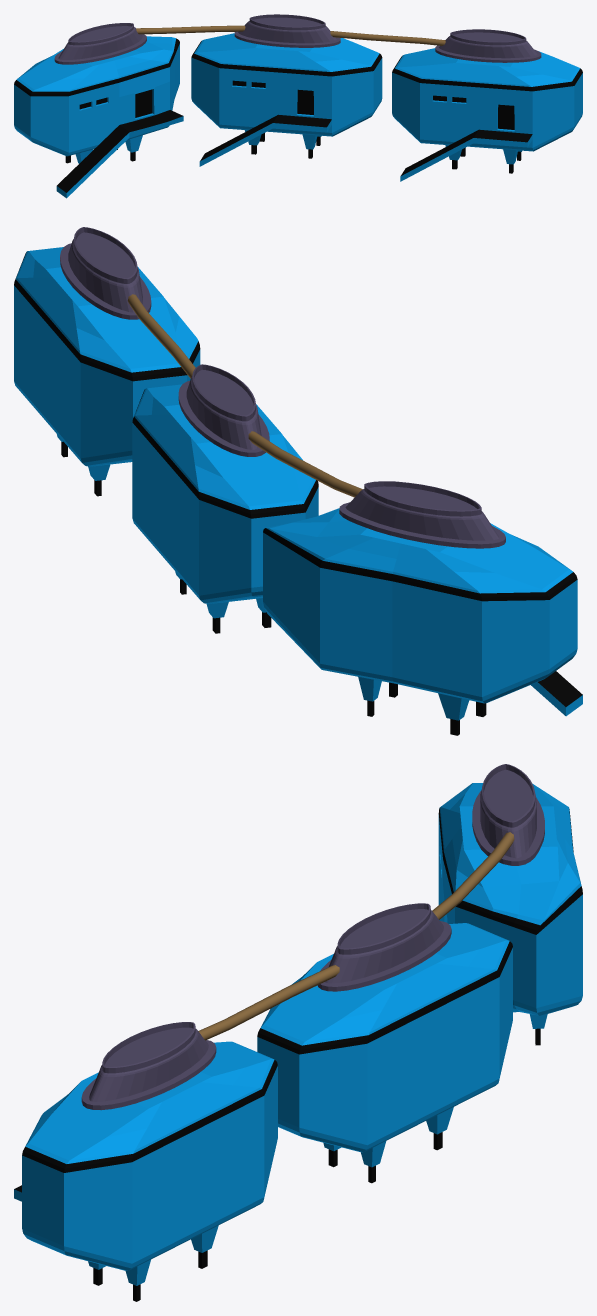
Rendered from antartidaReinoUnido.fbx.
The picture shows the model from 3 angles, top to bottom: view 1: azimuth 30°, elevation 25°; view 2: azimuth 150°, elevation 25°; view 3: azimuth 270°, elevation 25°; orthographic projection. The views are drawn at different scales.
Visible parts, largest first — view 1: Cube.001, BézierCurve.001; view 2: Cube.001, BézierCurve.001; view 3: Cube.001, BézierCurve.001.
Part boxes in pixels (x1,y1,x2,y2): Cube.001: (14,14,582,198); BézierCurve.001: (136,25,445,45); Cube.001: (14,227,582,735); BézierCurve.001: (127,294,362,497); Cube.001: (14,764,582,1301); BézierCurve.001: (198,832,514,1040).
Size of the model in its own units: 1389 by 389 by 868.
